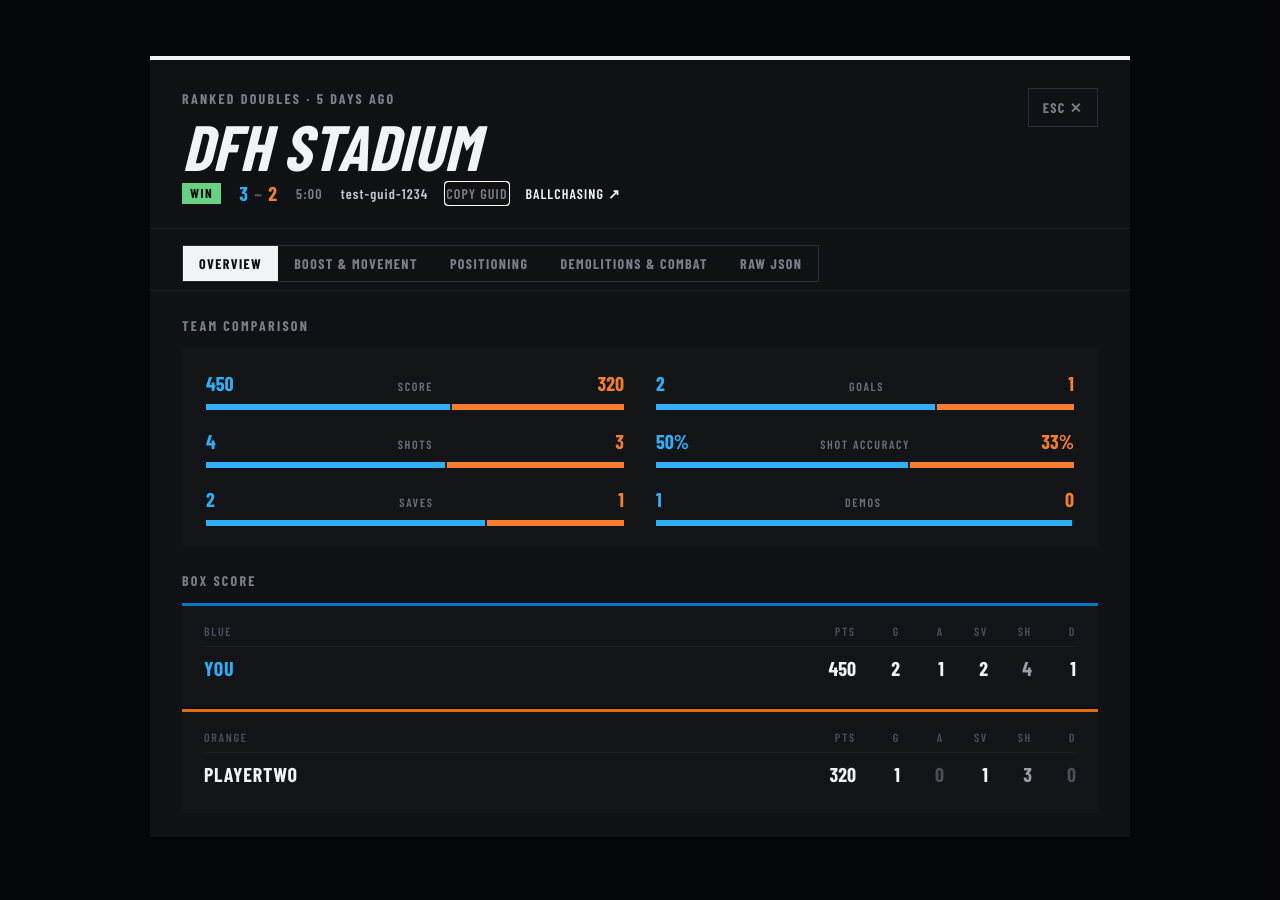
Scenario: HistoricalMatchDetailModal › switches between telemetry tabs
This screenshot has width=1280, height=900.
Click the button "BOOST & MOVEMENT" at (356, 264), box [278,246,434,281]
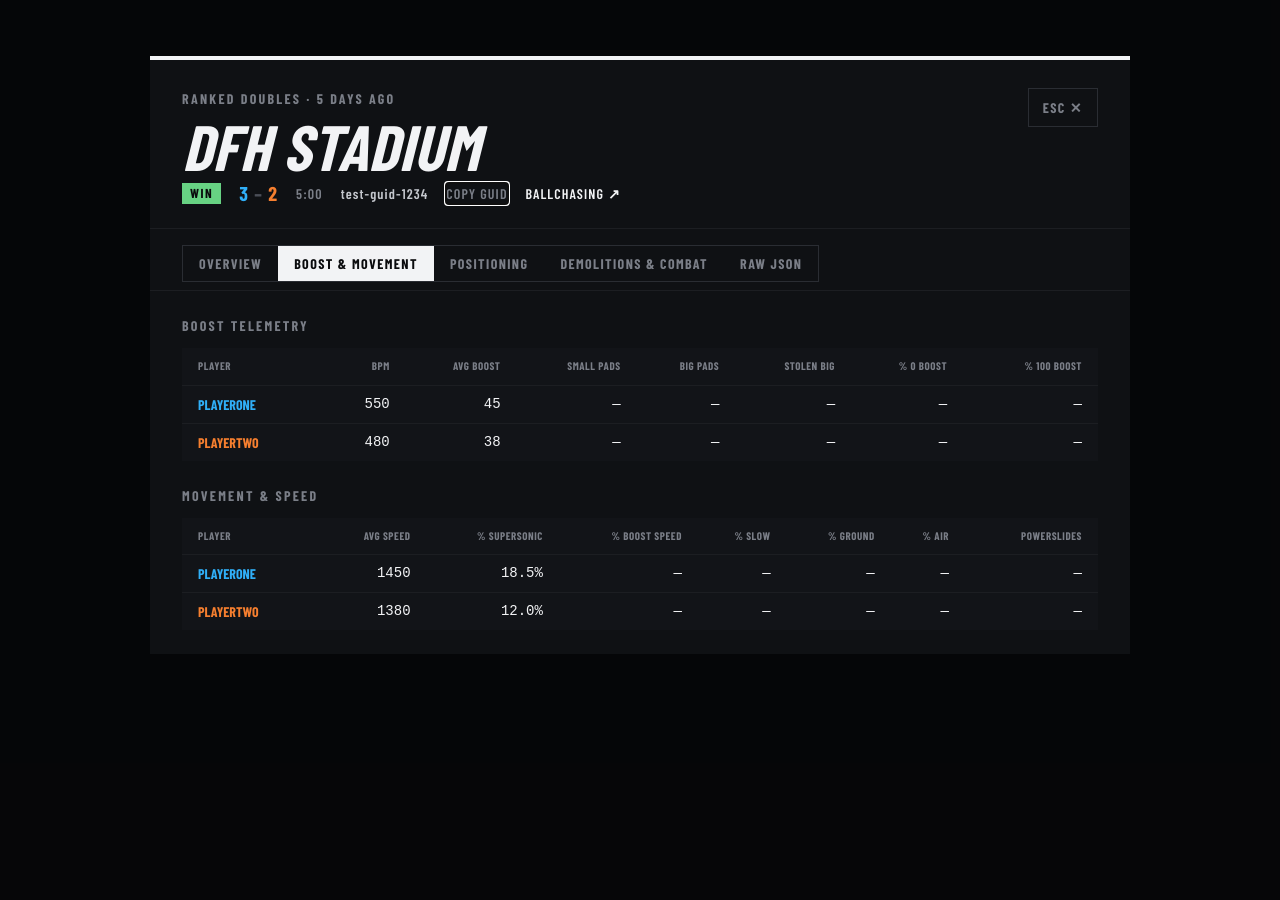
Now the text "BOOST TELEMETRY" is shown, box [182,317,309,334]
Now the text "AVG BOOST" is shown, box [402,348,513,385]
Click the button "POSITIONING" at (489, 264), box [434,246,544,281]
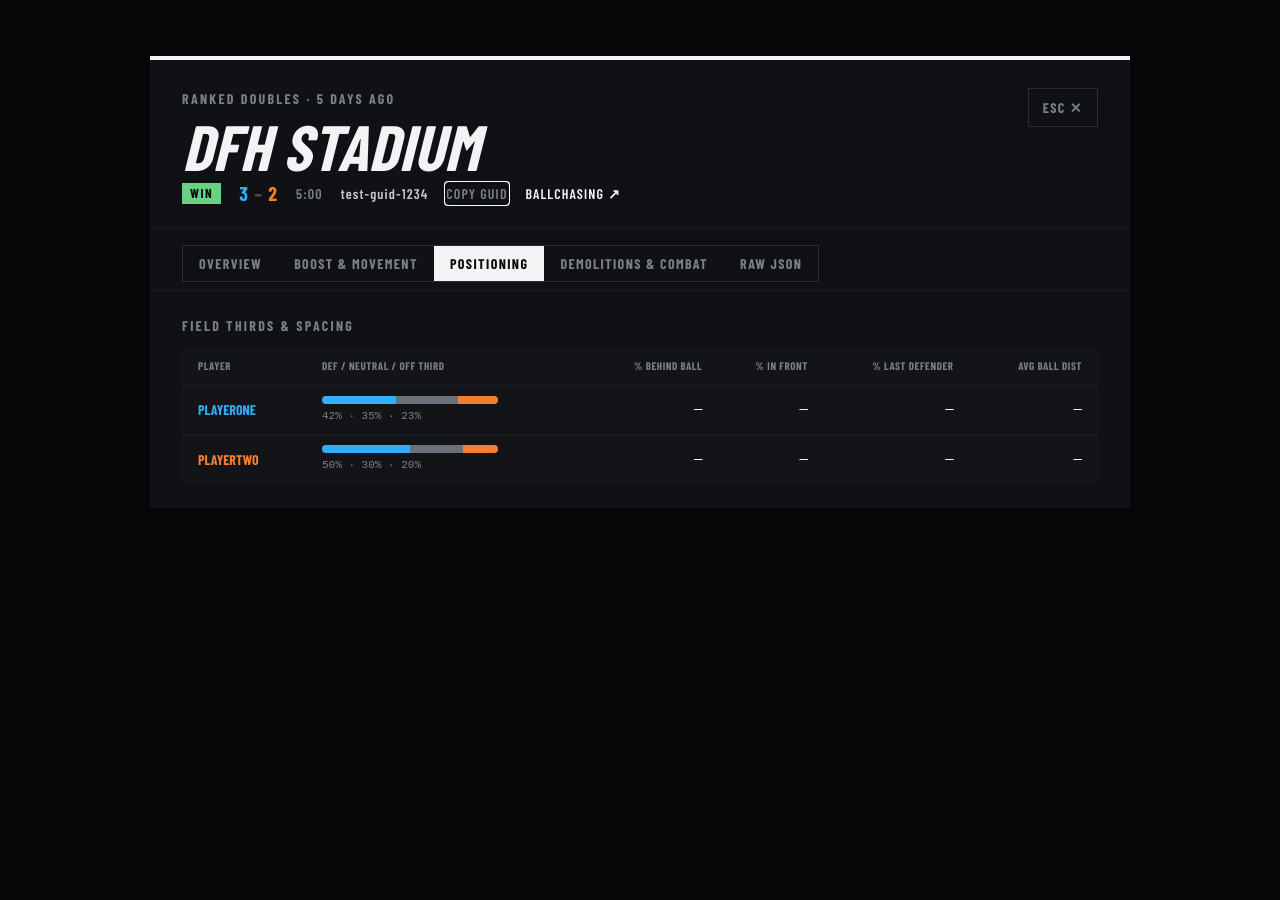
Now the text "FIELD THIRDS & SPACING" is shown, box [182,317,354,334]
Click the button "DEMOLITIONS & COMBAT" at (634, 264), box [544,246,724,281]
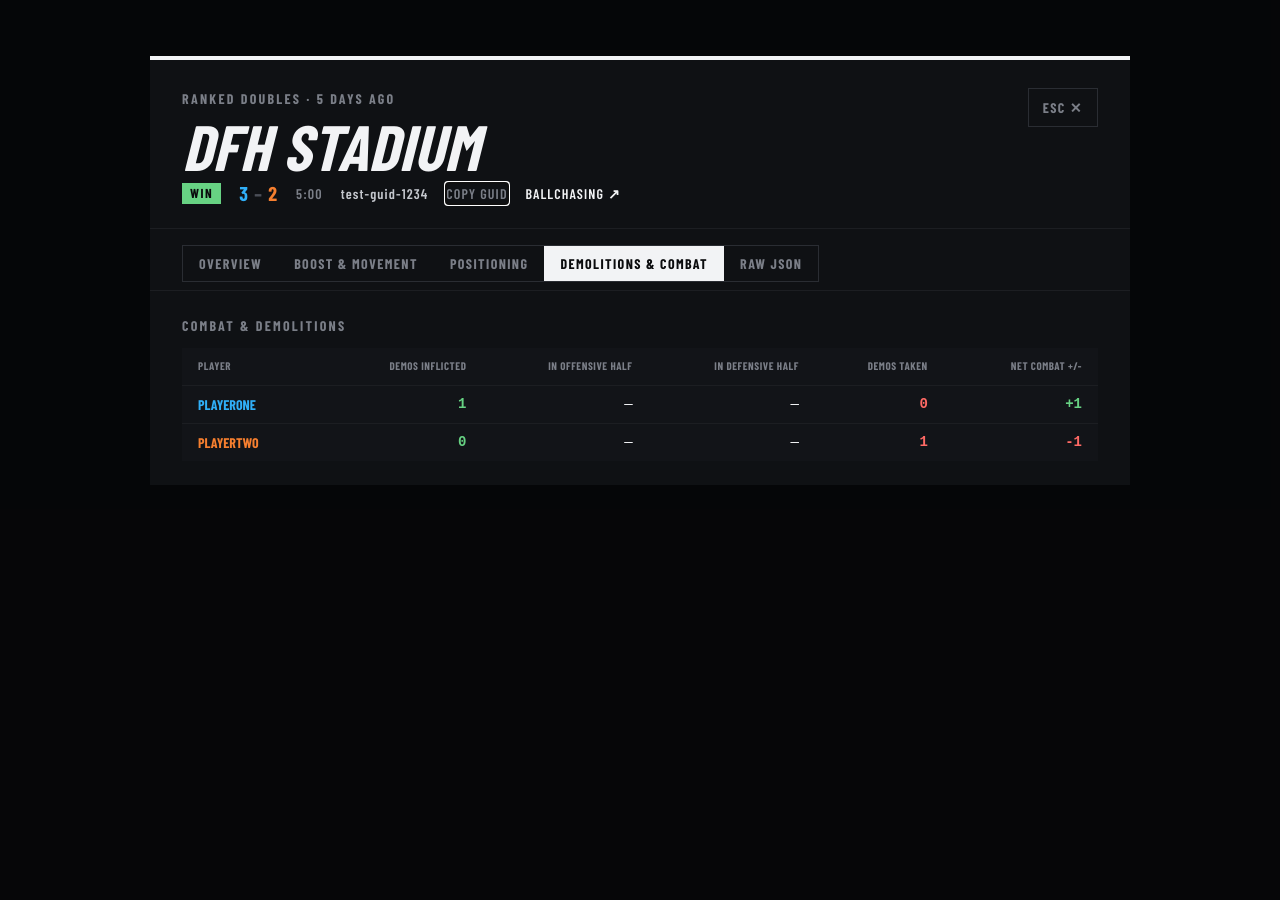
Click the button "RAW JSON" at (771, 264), box [724,246,818,281]
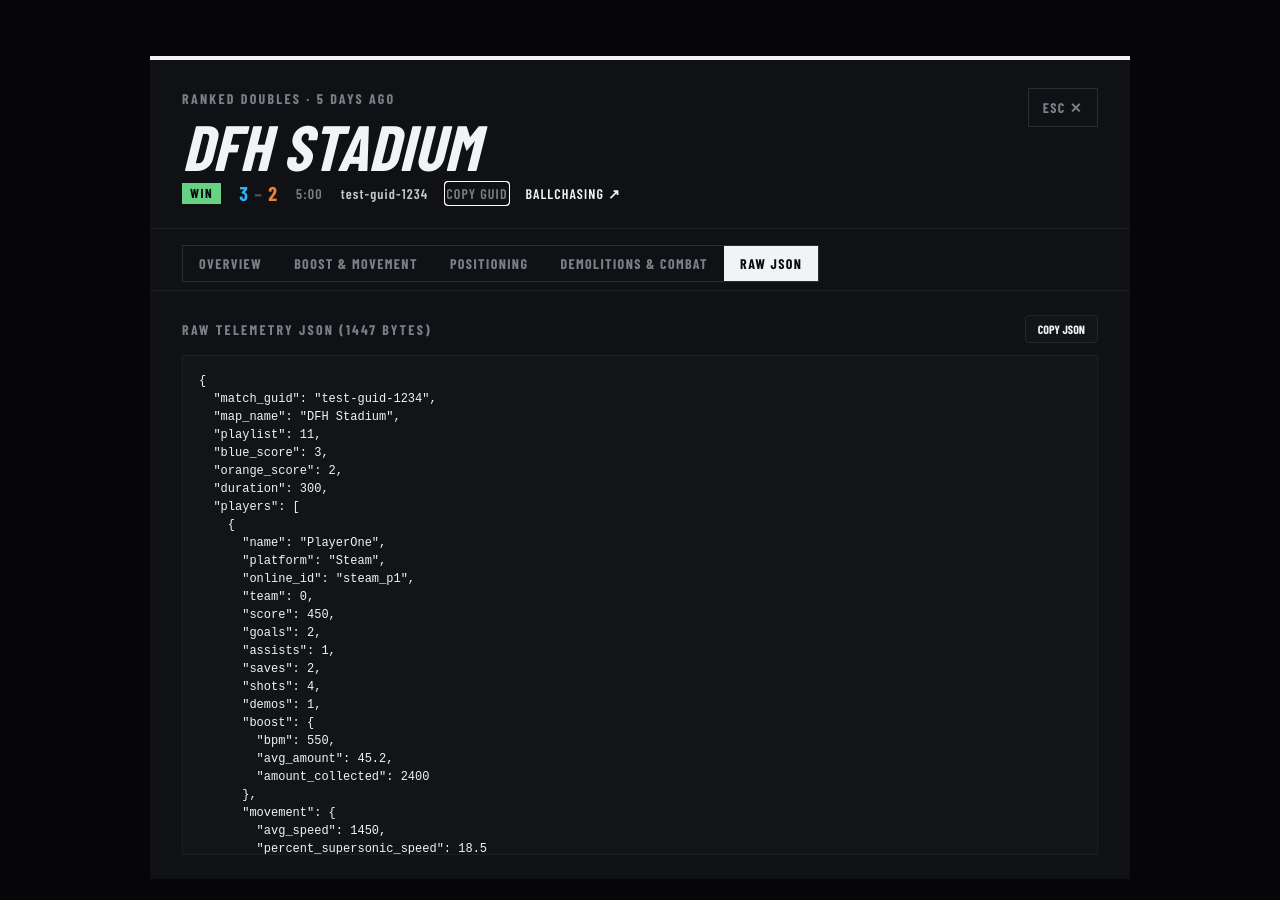
Now the text "RAW TELEMETRY JSON" is shown, box [182,321,346,338]
Now the text "COPY JSON" is shown, box [1025,315,1098,343]
